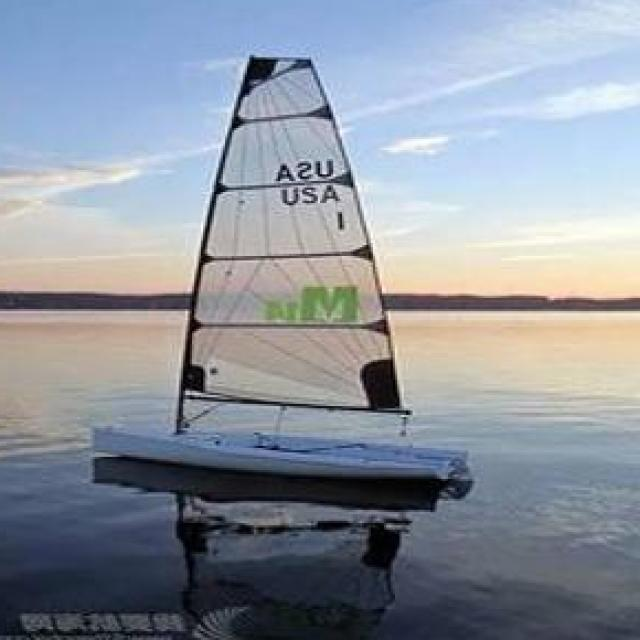sailboat: (82, 48, 487, 477)
